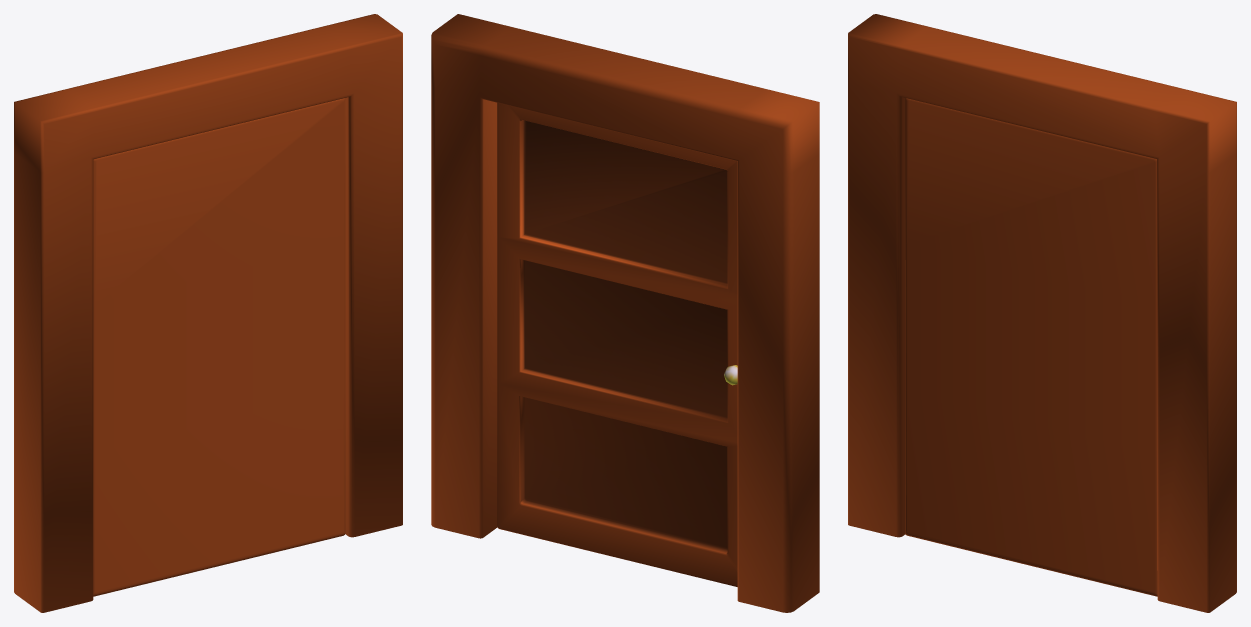
The model's file is Door_01.fbx.
3 renders of one model, left to right at view 1: azimuth 30°, elevation 25°; view 2: azimuth 150°, elevation 25°; view 3: azimuth 330°, elevation 25°, orthographic.
Parts seen in each view (by area): view 1: Sphere; view 2: Sphere; view 3: Sphere.
Boxes of the visible parts, <box> form: Sphere: <box>14,14,402,612</box>; Sphere: <box>431,14,819,612</box>; Sphere: <box>848,14,1236,612</box>.
Bounding box in the file's own units: 172 × 223 × 25.36.
